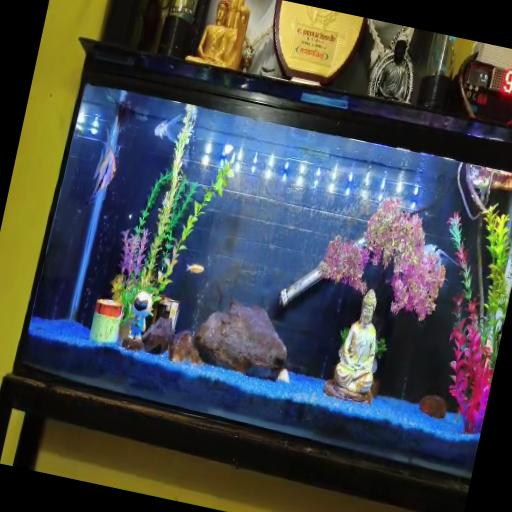Fish: (88, 130, 116, 203), (154, 114, 182, 142), (424, 244, 457, 267), (187, 265, 204, 274)
